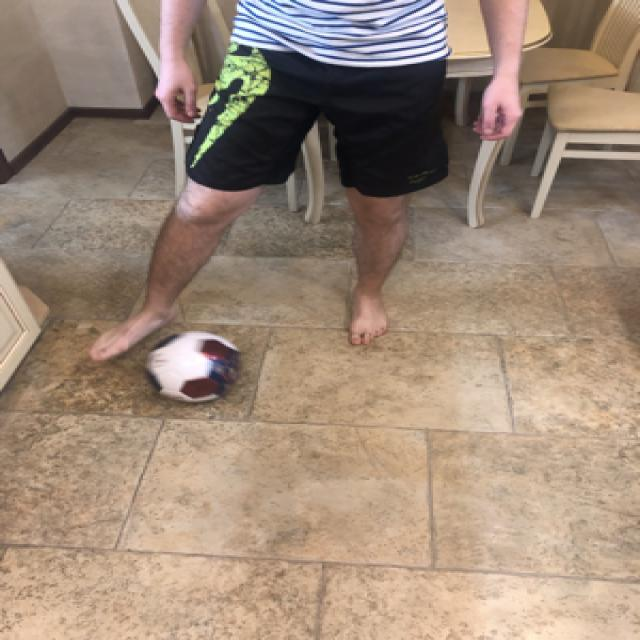soccer_ball: (141, 324, 241, 402)
